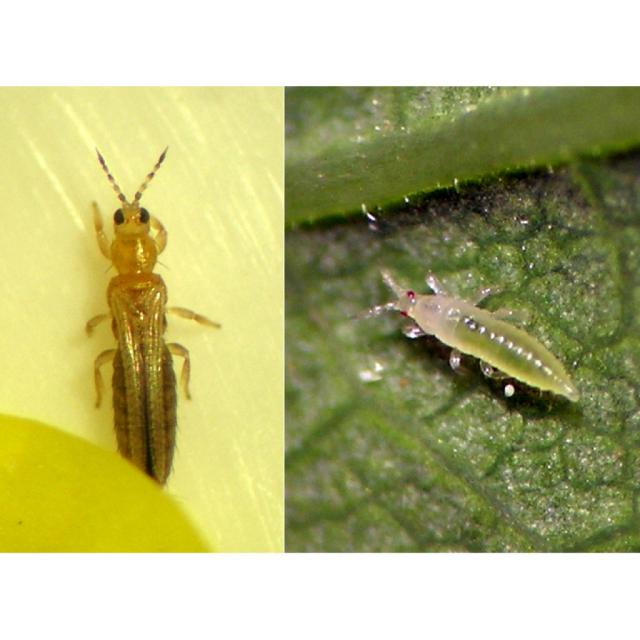Thrip-Adult-: (74, 141, 225, 495)
Thrip-Larva-: (350, 260, 591, 416)
